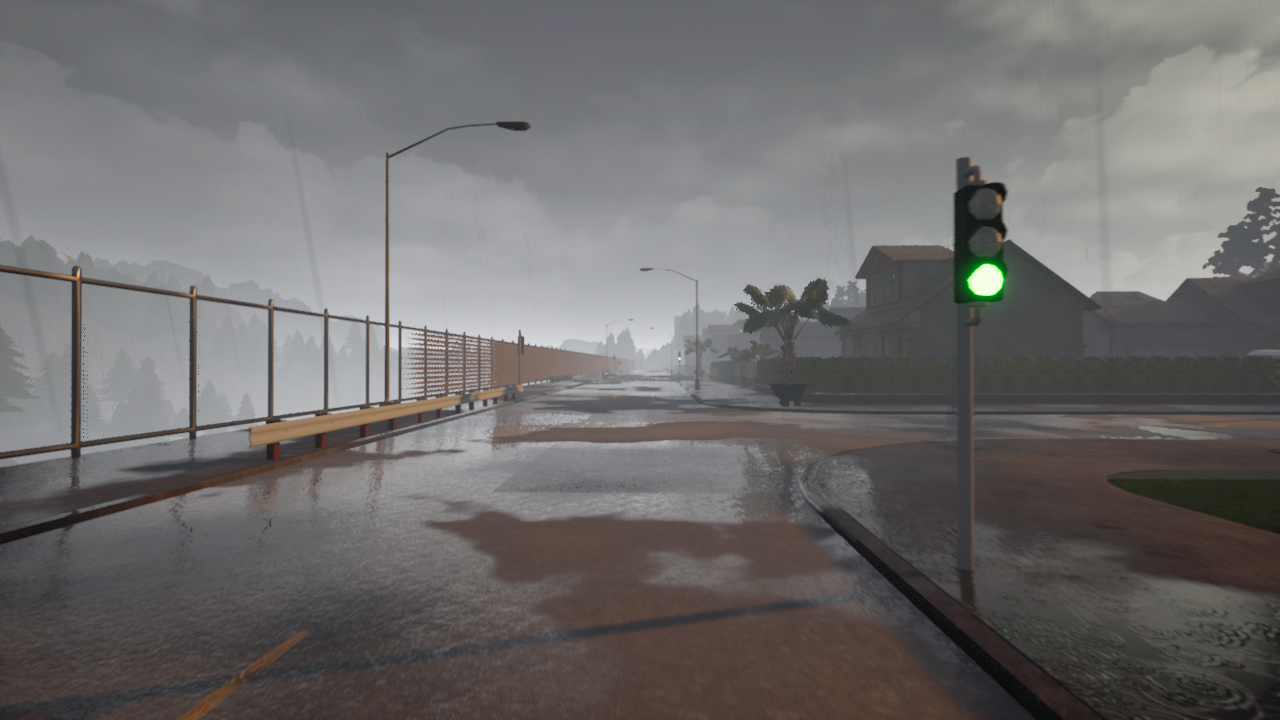green: (952, 176, 1010, 302)
